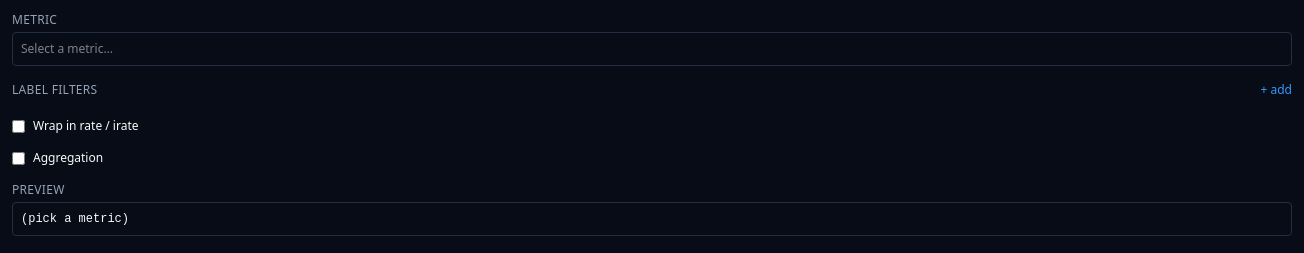
Test: QueryBuilder › renders the metric dropdown populated from the hook
Focus the dropdown: (652, 49) [12,32,1292,66]
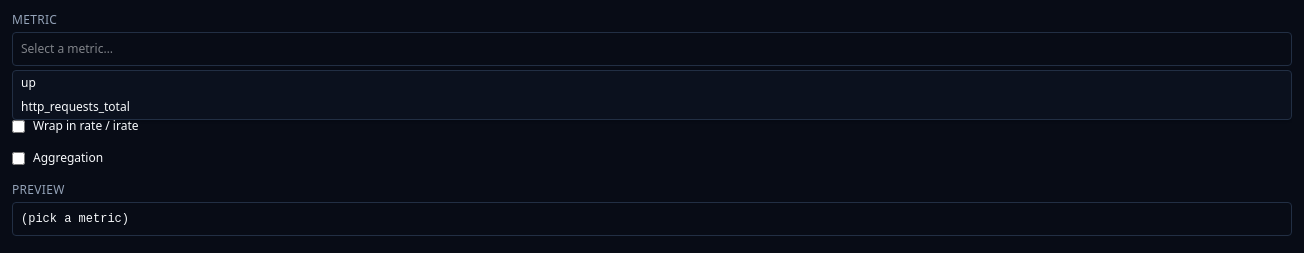
Now the option "up" is shown, box [21,74,36,91]
Now the option "http_requests_total" is shown, box [21,98,130,115]
